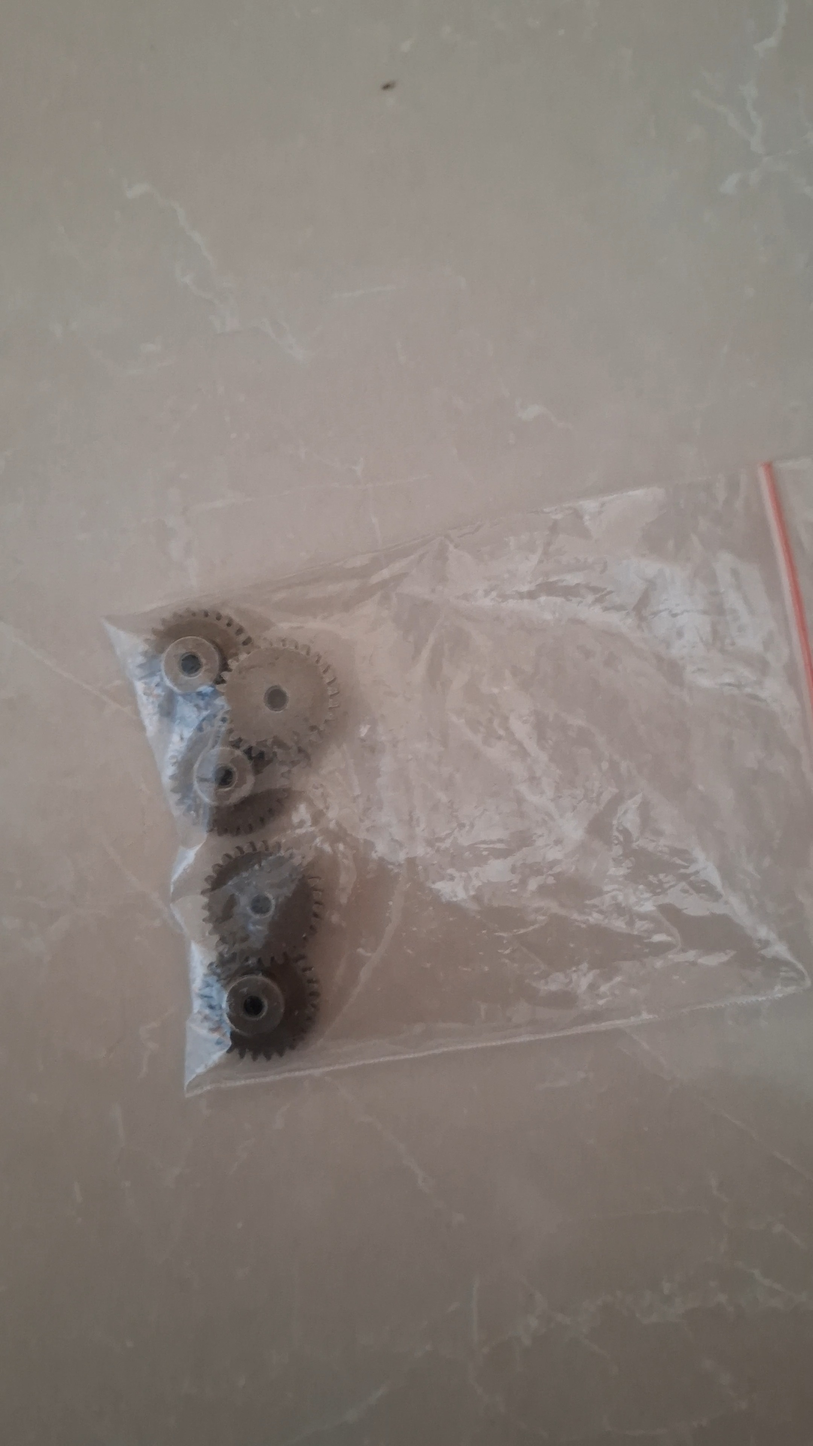spur gear: (219, 640, 338, 757), (170, 721, 288, 836), (206, 843, 320, 959), (224, 952, 319, 1059), (148, 609, 253, 693)
